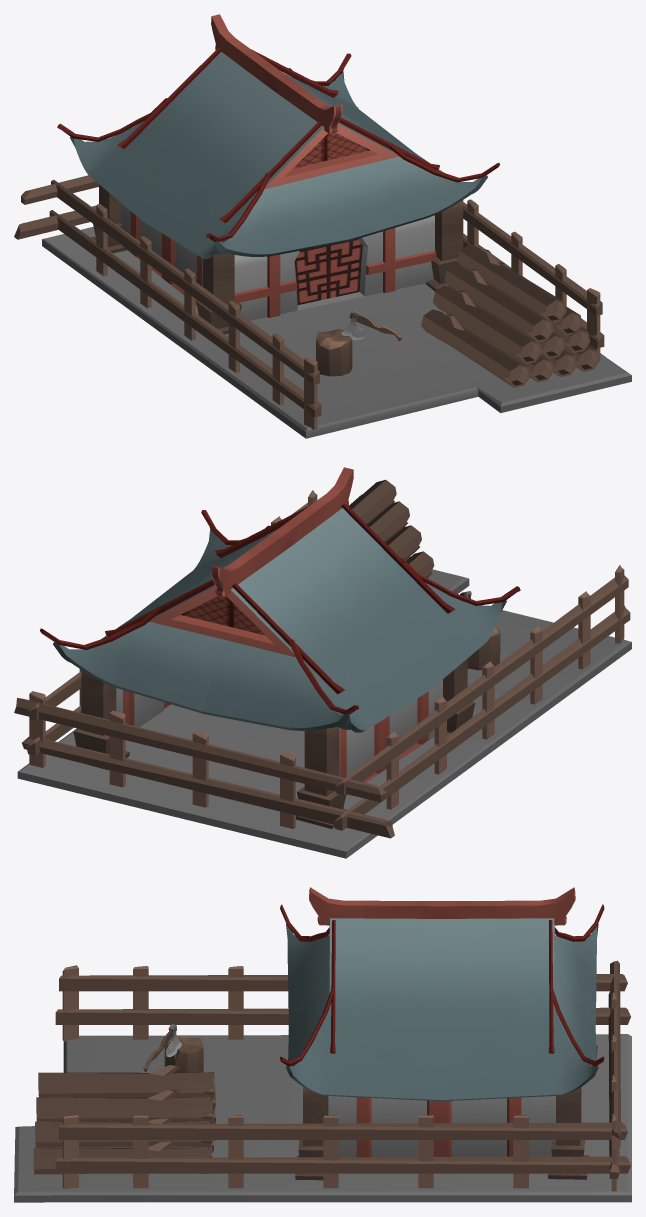
The model's file is sawmill_2lvl.fbx.
3 views of the same model, one above another, from view 1: azimuth 30°, elevation 25°; view 2: azimuth 150°, elevation 25°; view 3: azimuth 270°, elevation 25° (orthographic). The views are drawn at different scales.
Visible parts, largest first — view 1: sawmill_2lvl; view 2: sawmill_2lvl; view 3: sawmill_2lvl.
Boxes of the visible parts, box(x1,y1,x2,y2) form: sawmill_2lvl: box(14, 14, 631, 438); sawmill_2lvl: box(14, 467, 631, 858); sawmill_2lvl: box(14, 887, 631, 1202).
Bounding box in the file's own units: 4.54 × 2.69 × 6.52.
